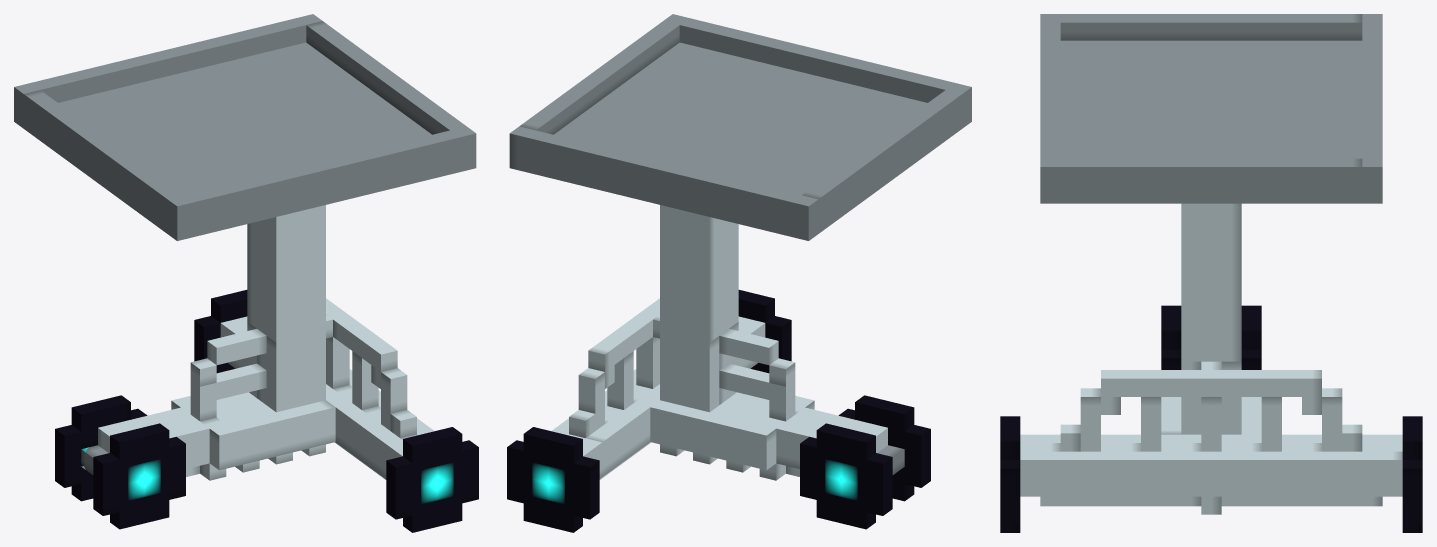
The model's file is stolik_operacja.dae.
3 views of the same model, side by side, from view 1: azimuth 30°, elevation 25°; view 2: azimuth 150°, elevation 25°; view 3: azimuth 270°, elevation 25° (orthographic). The views are drawn at different scales.
Parts seen in each view (by area): view 1: Content; view 2: Content; view 3: Content.
Boxes of the visible parts, bbox=[...] form: Content: bbox=[14, 14, 478, 532]; Content: bbox=[507, 14, 971, 532]; Content: bbox=[1000, 14, 1422, 532].
Size of the model in its own units: 19 by 21 by 21.
1 material, 1 textured.
